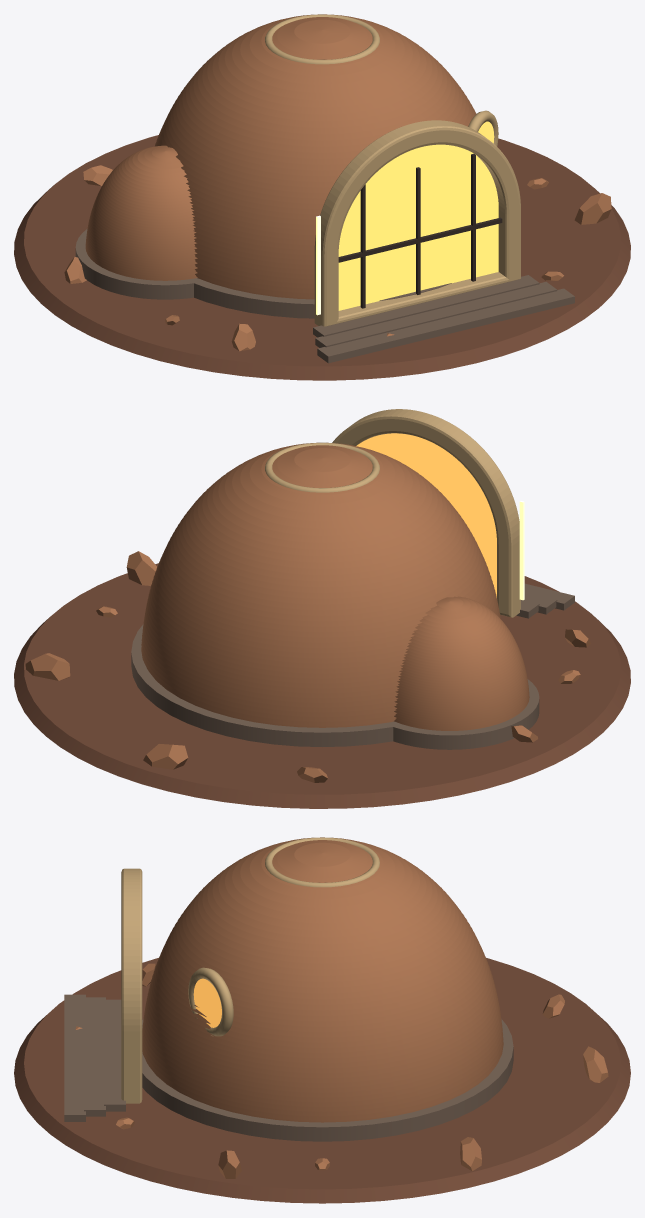
File: dining.glb
The picture shows the model from 3 angles, top to bottom: view 1: azimuth 30°, elevation 25°; view 2: azimuth 150°, elevation 25°; view 3: azimuth 270°, elevation 25°; orthographic projection.
Parts seen in each view (by area): view 1: Regolith shell (×2), Foundation, DINING POD, Warm interior glazing; view 2: Regolith shell (×2), Foundation, DINING POD, Warm interior glazing, Entrance light; view 3: Regolith shell, Foundation, DINING POD.
Part boxes in pixels (left/top/right/bottom): Regolith shell (×2): left=85, top=14, right=476, bottom=299; Foundation: left=14, top=135, right=630, bottom=380; DINING POD: left=64, top=14, right=611, bottom=363; Warm interior glazing: left=338, top=144, right=498, bottom=310; Regolith shell (×2): left=141, top=442, right=529, bottom=730; Foundation: left=14, top=563, right=630, bottom=808; DINING POD: left=25, top=409, right=590, bottom=782; Warm interior glazing: left=356, top=433, right=496, bottom=597; Entrance light: left=519, top=501, right=524, bottom=600; Regolith shell: left=142, top=837, right=503, bottom=1122; Foundation: left=14, top=958, right=630, bottom=1203; DINING POD: left=64, top=837, right=608, bottom=1178.
Size of the model in its own units: 6.2 by 2.53 by 6.2.
